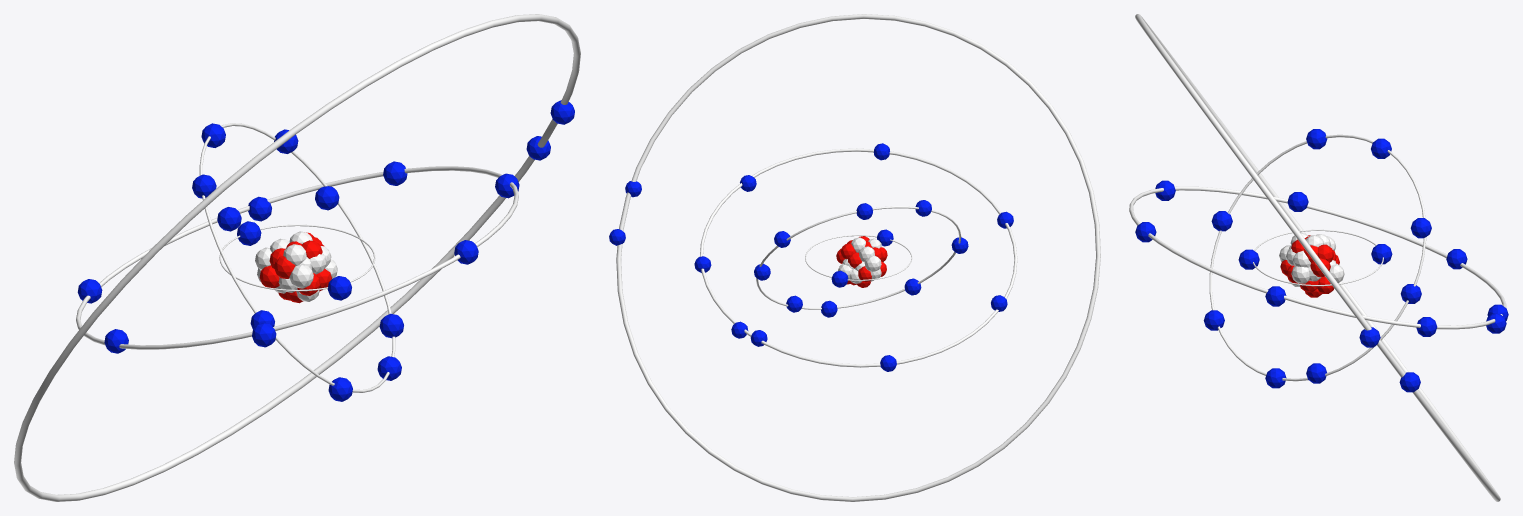
File: Calcium.glb
The picture shows the model from 3 angles, left to right: view 1: azimuth 30°, elevation 25°; view 2: azimuth 150°, elevation 25°; view 3: azimuth 270°, elevation 25°; orthographic projection. The views are drawn at different scales.
Parts seen in each view (by area): view 1: BezierCircle, Electrons, Neutrons, Protons; view 2: BezierCircle, Electrons, Neutrons, Protons; view 3: BezierCircle, Electrons, Neutrons, Protons.
Part boxes in pixels (x1,y1,x2,y2): BezierCircle: (14,14,580,501); Electrons: (77,100,574,401); Neutrons: (255,231,337,301); Protons: (259,232,331,303); BezierCircle: (616,14,1100,501); Electrons: (609,143,1013,371); Neutrons: (838,237,884,283); Protons: (836,236,887,287); BezierCircle: (1129,14,1506,501); Electrons: (1135,129,1508,392); Neutrons: (1279,233,1344,286); Protons: (1280,235,1339,297).
Bounding box in the file's own units: 55.84 × 47.93 × 35.64.
